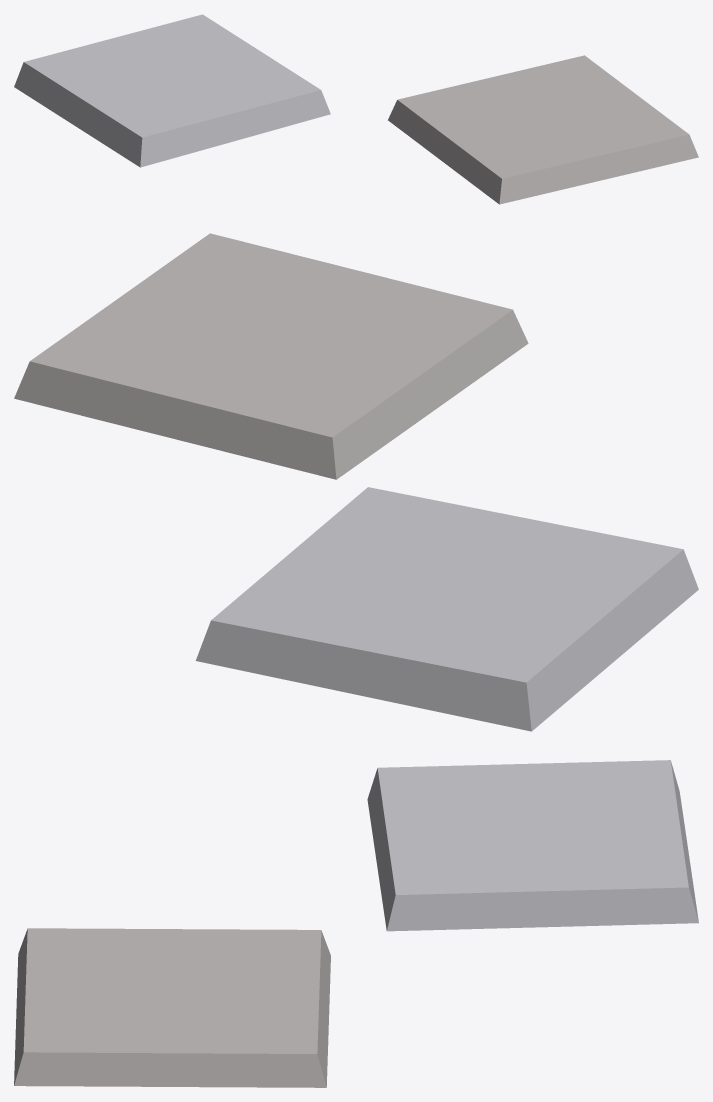
Rendered from Rock_Tiles_m_13.fbx.
3 renders of one model, top to bottom at view 1: azimuth 30°, elevation 25°; view 2: azimuth 150°, elevation 25°; view 3: azimuth 270°, elevation 25°, orthographic. The views are drawn at different scales.
Parts seen in each view (by area): view 1: Rock_Tiles_m_13; view 2: Rock_Tiles_m_13; view 3: Rock_Tiles_m_13.
Part boxes in pixels (bbox=[...]): Rock_Tiles_m_13: bbox=[14, 14, 698, 204]; Rock_Tiles_m_13: bbox=[14, 233, 698, 731]; Rock_Tiles_m_13: bbox=[14, 760, 698, 1087].
Bounding box in the file's own units: 89.75 × 5 × 87.59.
